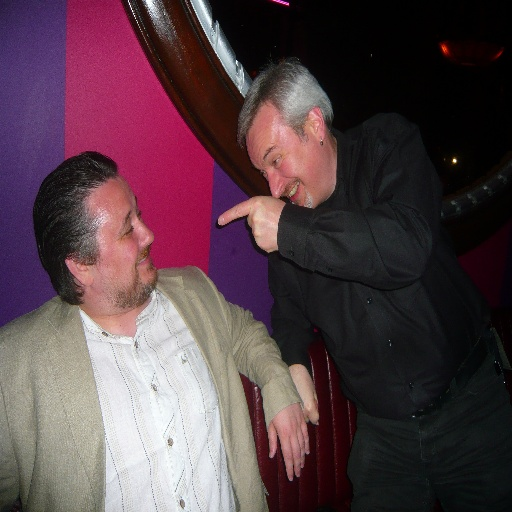hand: (213, 185, 294, 247), (268, 401, 309, 481), (286, 366, 320, 426)
